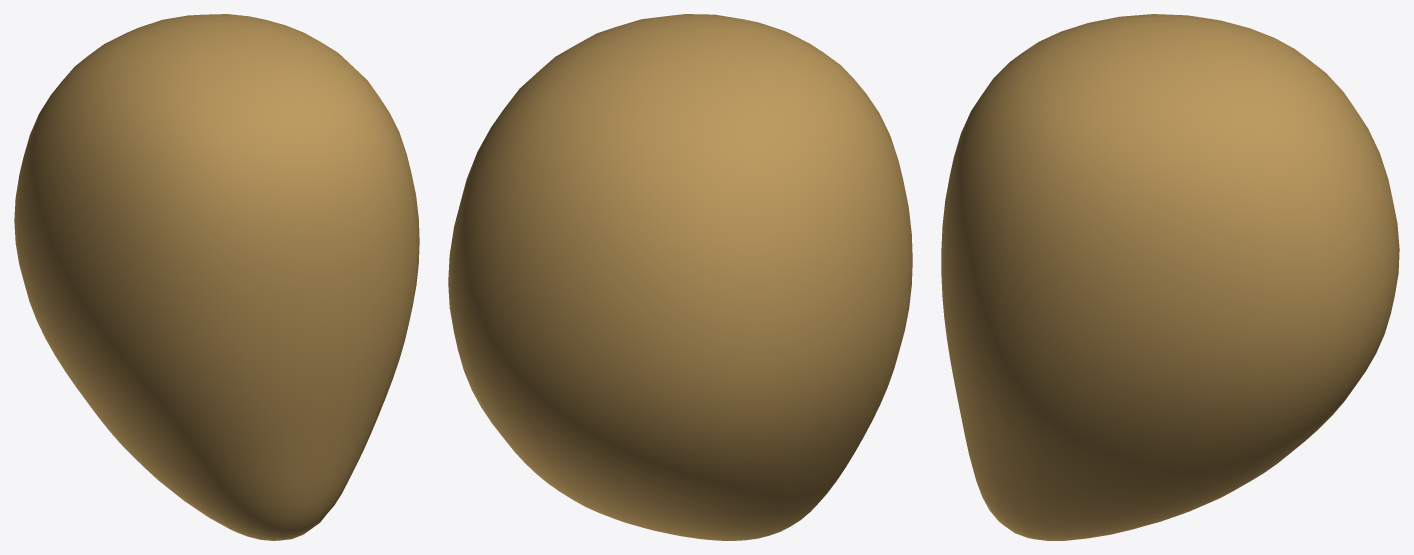
Rendered from head_head_003.gltf.
3 views of the same model, side by side, from view 1: azimuth 30°, elevation 25°; view 2: azimuth 150°, elevation 25°; view 3: azimuth 270°, elevation 25° (orthographic). The views are drawn at different scales.
Parts seen in each view (by area): view 1: head.003; view 2: head.003; view 3: head.003.
Boxes of the visible parts, x1=… form: head.003: x1=14, y1=14, x2=419, y2=540; head.003: x1=448, y1=14, x2=912, y2=540; head.003: x1=941, y1=14, x2=1399, y2=540.
Bounding box in the file's own units: 0.1445 × 0.1882 × 0.1582.
